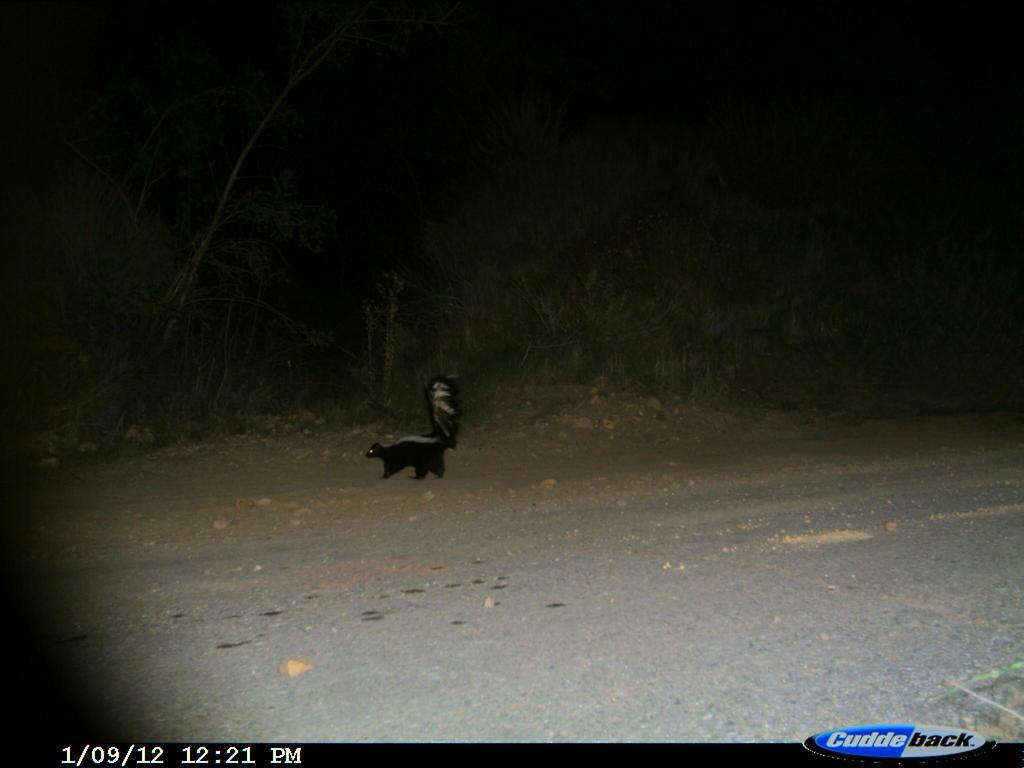skunk: (364, 372, 472, 484)
